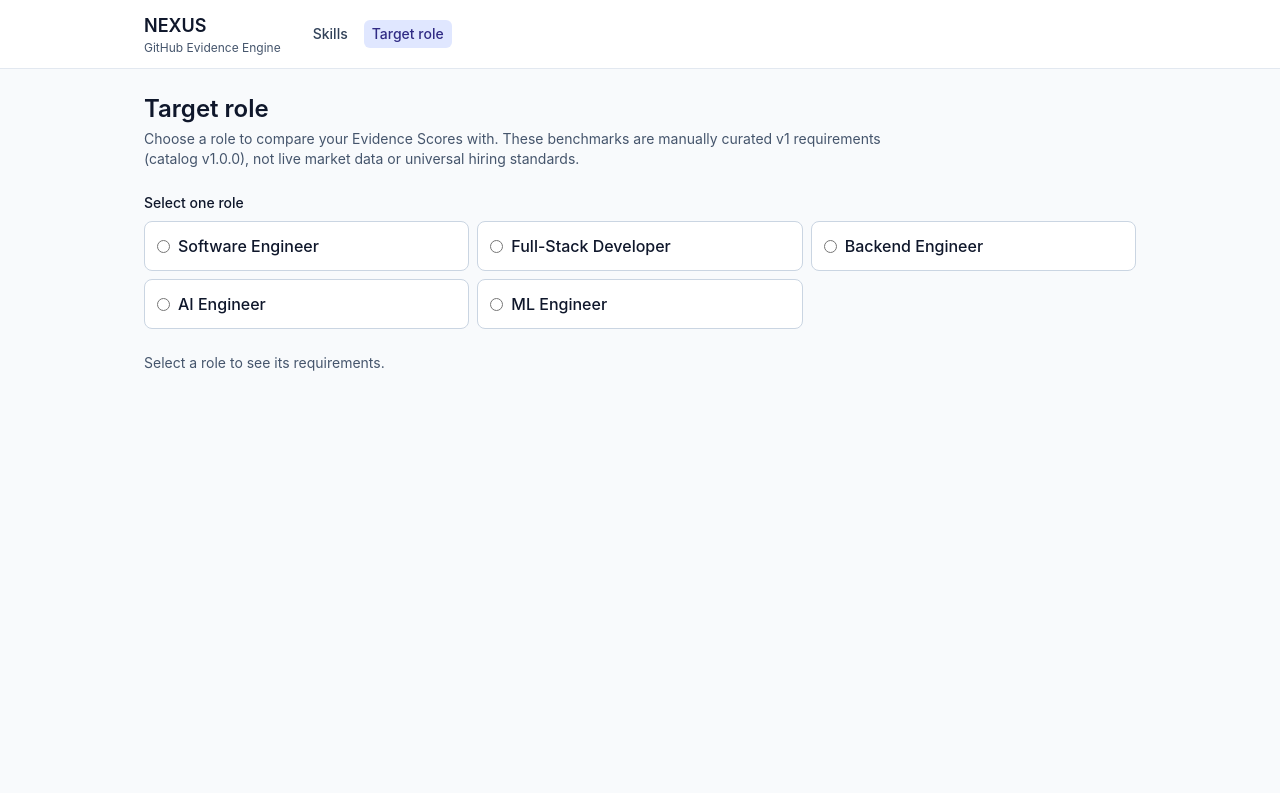
role selection and gap analysis (real App, stubbed network) › cannot display a stale result after switching roles
The image size is (1280, 793).
Expected: the text "Select one role" is shown, [144,193,244,213]
Click the radio button labelled "AI Engineer": (164,304) [157,298,170,310]
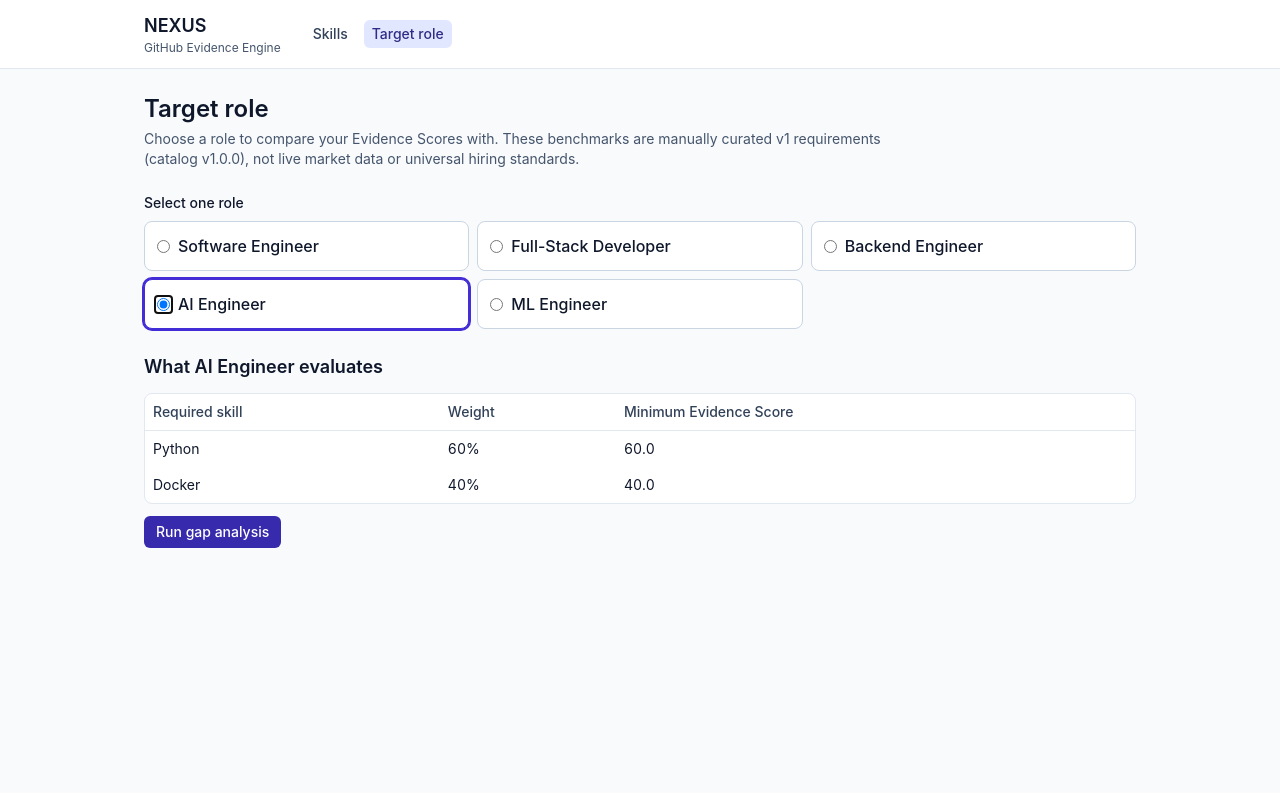
Click the button "Run gap analysis": (213,532) [144,516,281,548]
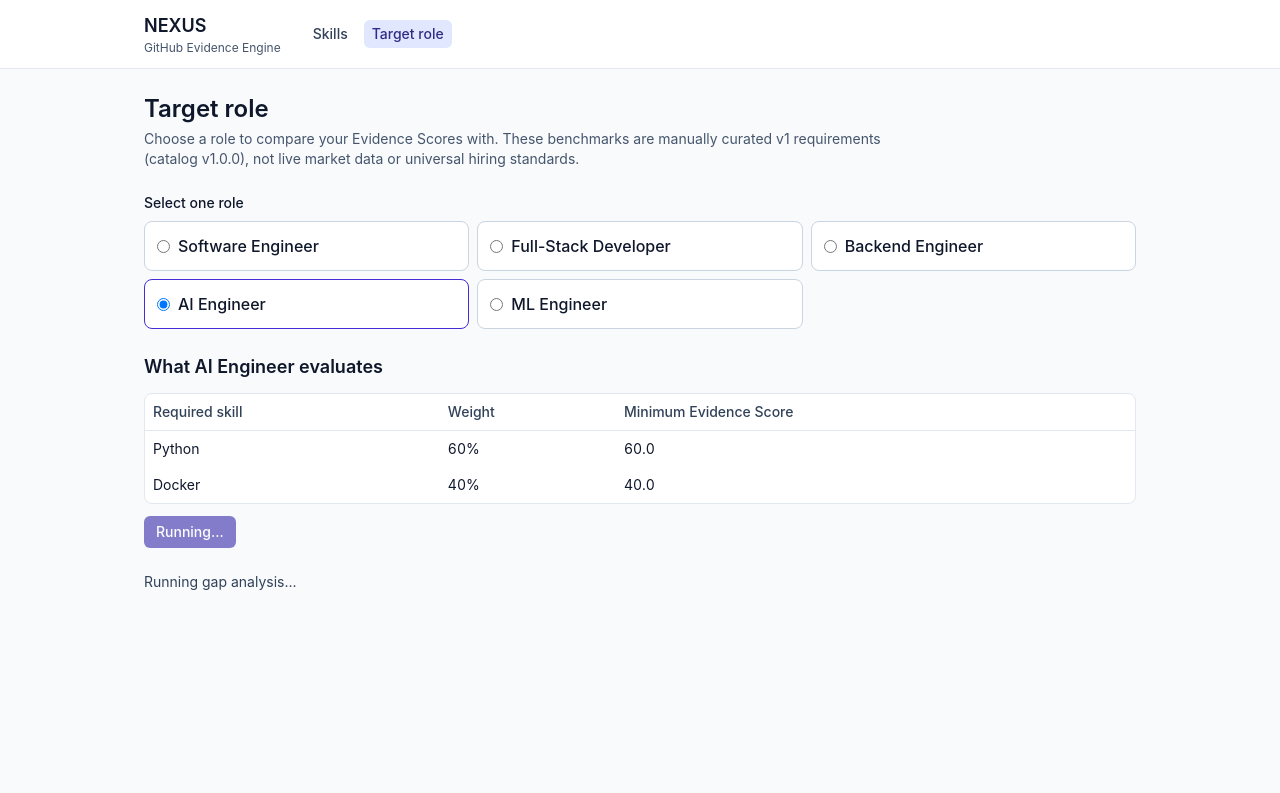
Click the radio button labelled "ML Engineer": (497,304) [490,298,503,310]
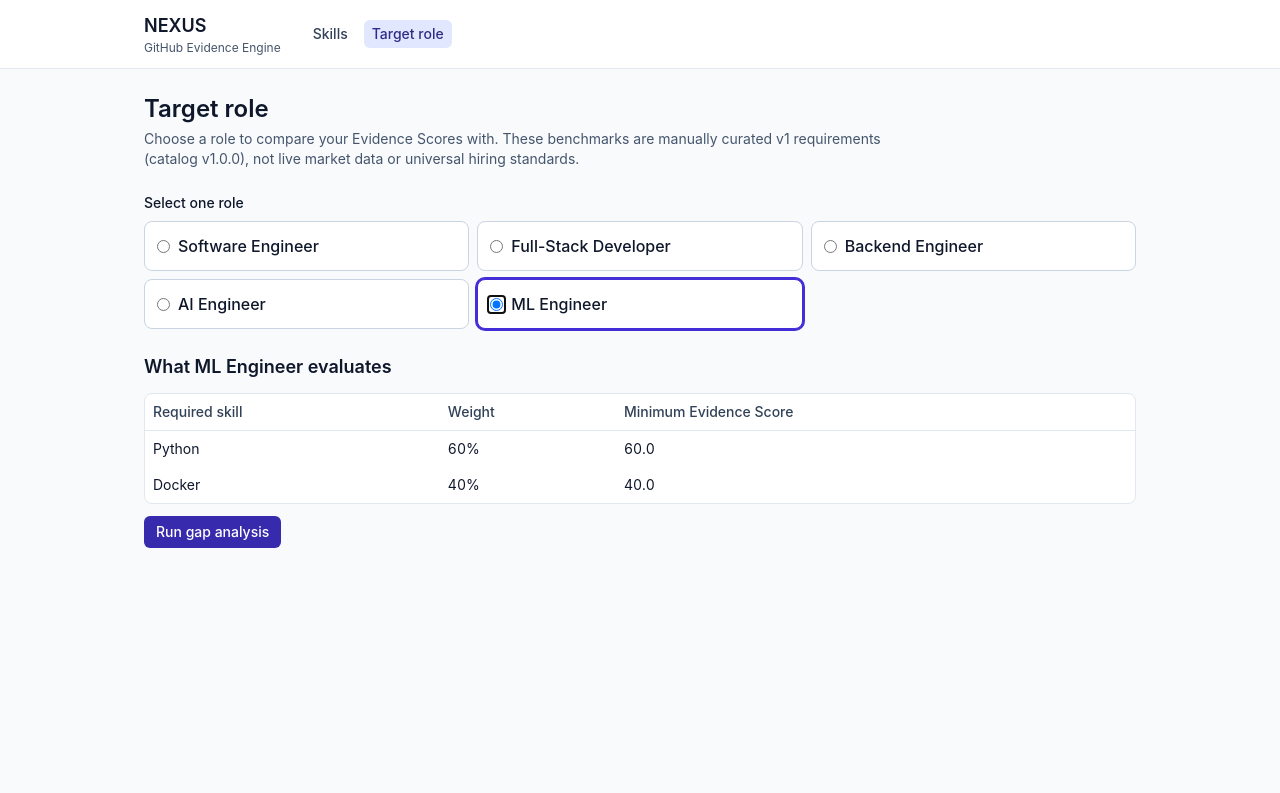
Click the button "Run gap analysis": (213,532) [144,516,281,548]
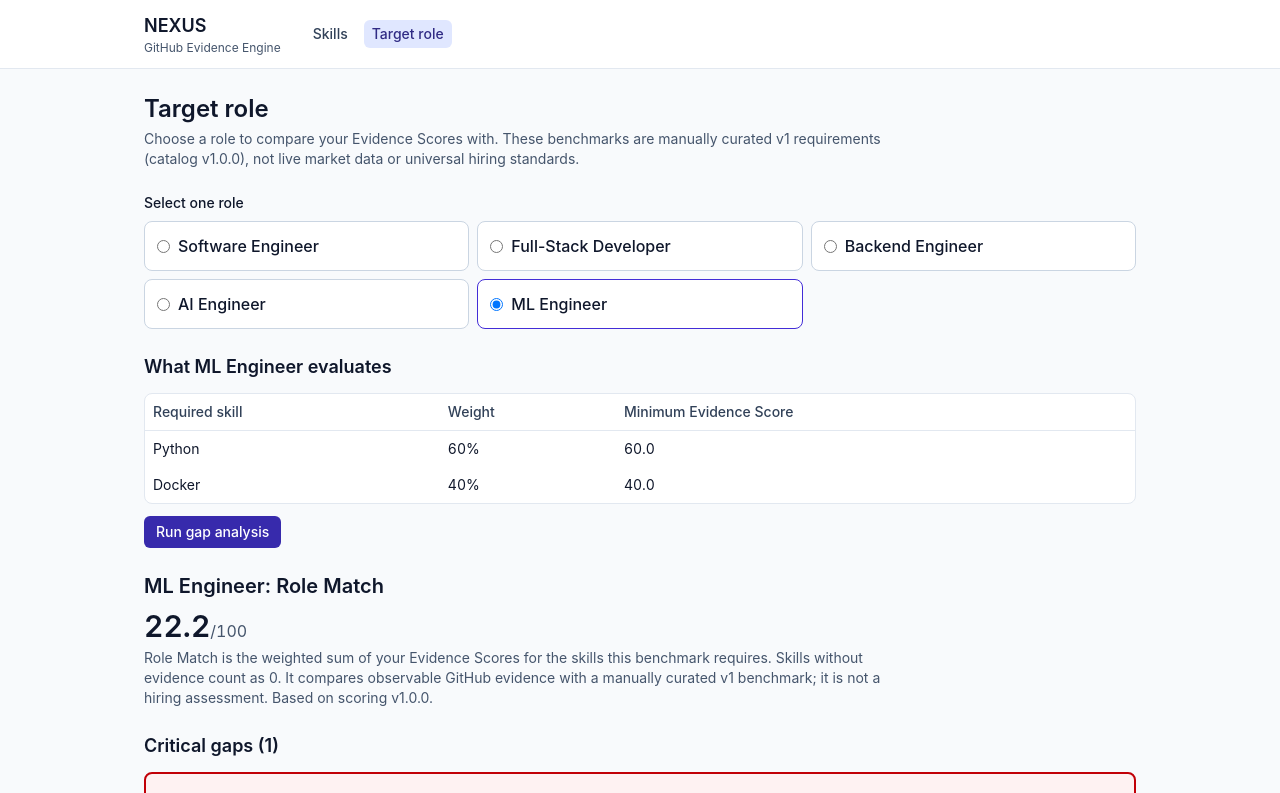
Expected: the heading "ML Engineer: Role Match" is shown, [144,574,384,598]
